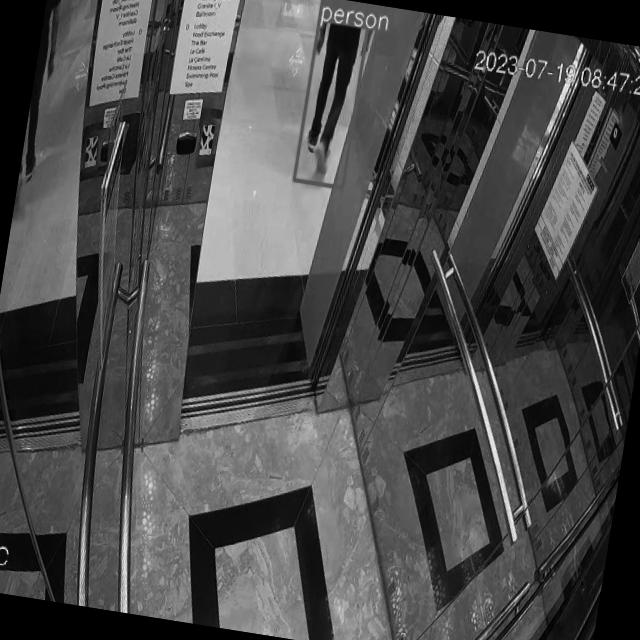person: (294, 17, 374, 189)
